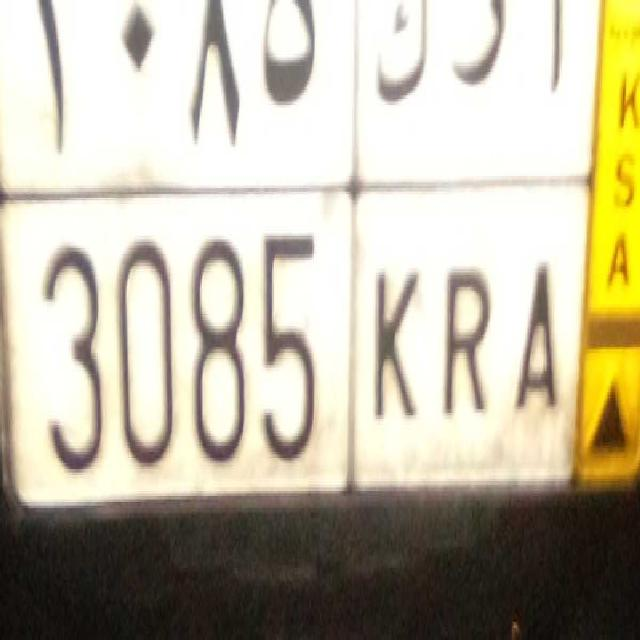license_plate: (23, 183, 573, 507)
